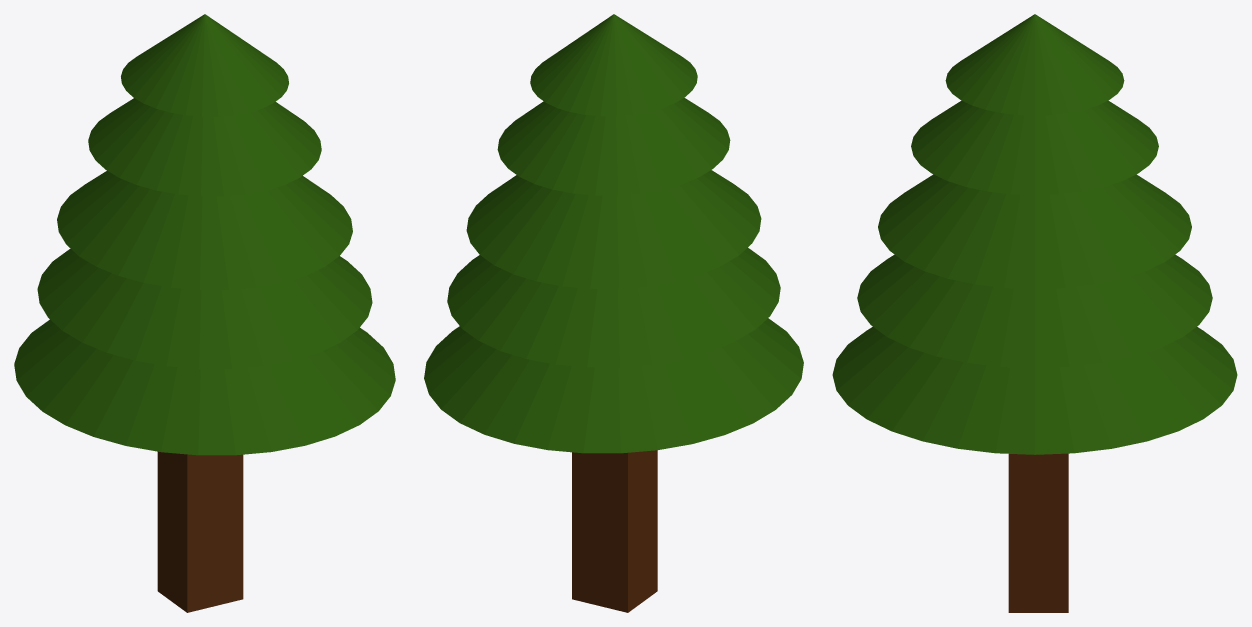
The model's file is kusepu.dae.
3 renders of one model, left to right at view 1: azimuth 30°, elevation 25°; view 2: azimuth 150°, elevation 25°; view 3: azimuth 270°, elevation 25°, orthographic.
Visible parts, largest first — view 1: Cube; view 2: Cube; view 3: Cube.
Part boxes in pixels (box(x1,y1,x2,y2)): Cube: box(14, 14, 395, 612); Cube: box(424, 14, 803, 612); Cube: box(832, 14, 1237, 612).
Bounding box in the file's own units: 5.72 × 6.13 × 9.79.
